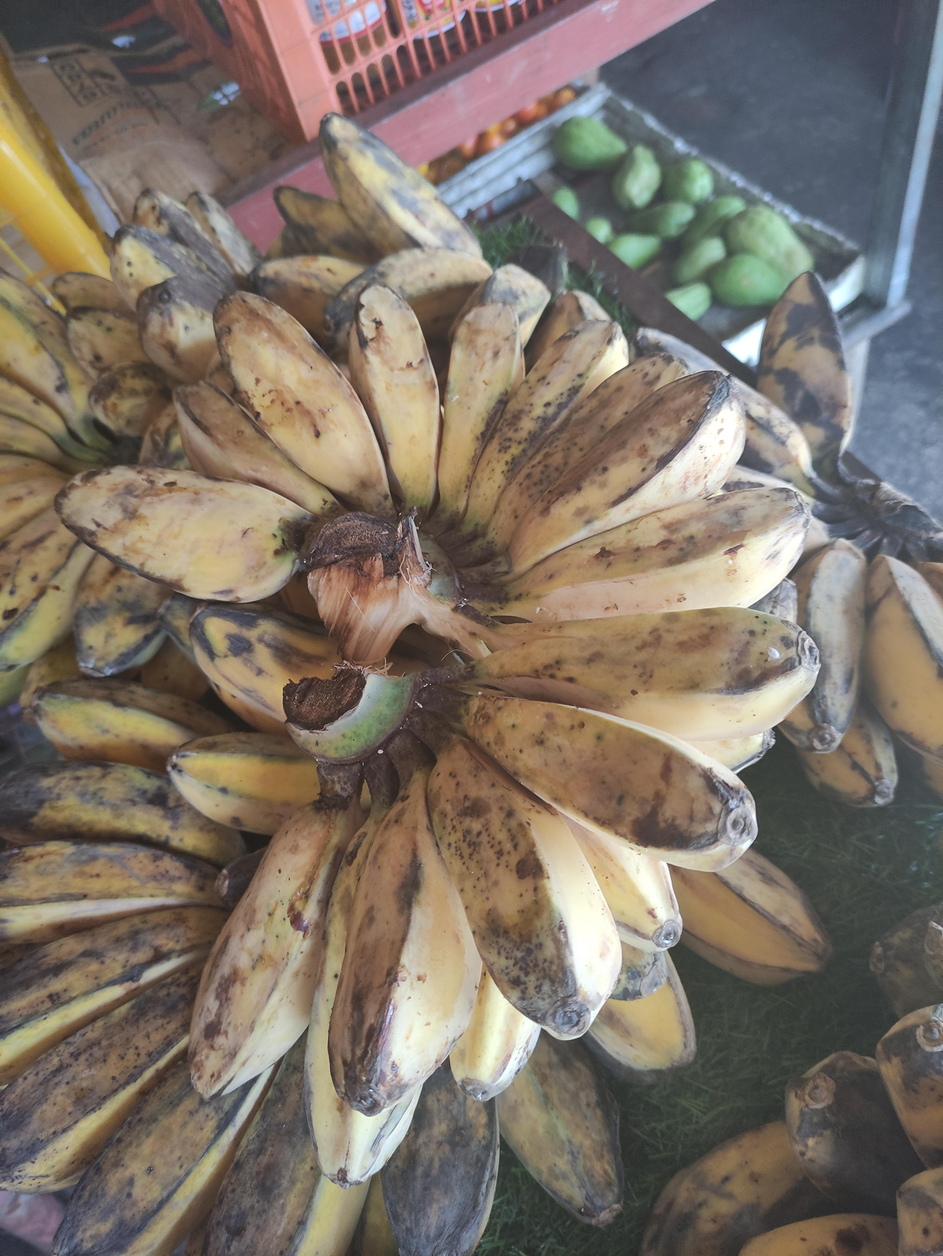ripe: (54, 281, 821, 1190), (0, 679, 695, 1256), (632, 270, 943, 807), (640, 904, 943, 1256), (0, 274, 207, 706), (50, 189, 256, 469), (252, 248, 607, 387)
